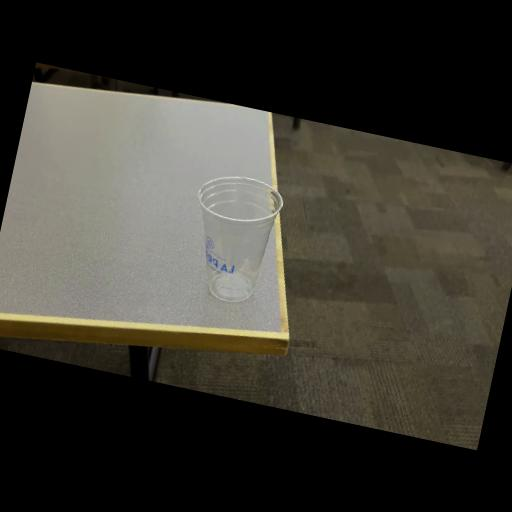lp_plastic_cup: (162, 166, 288, 324)
